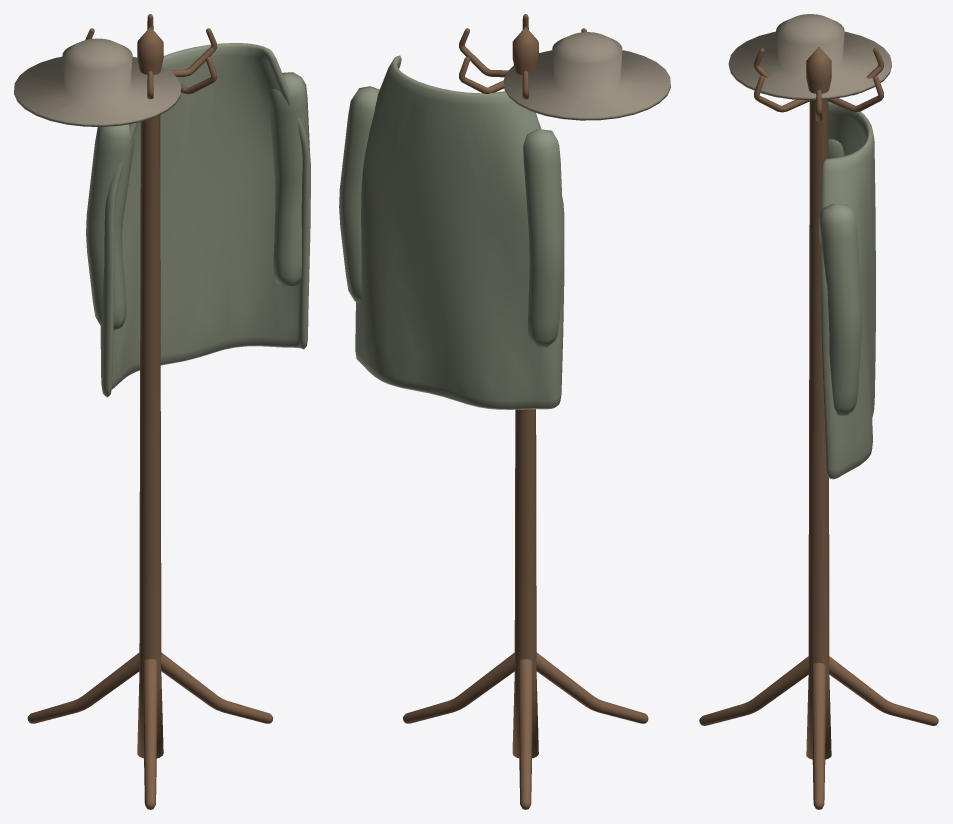
Rendered from coat_stand.glb.
3 views of the same model, side by side, from view 1: azimuth 30°, elevation 25°; view 2: azimuth 150°, elevation 25°; view 3: azimuth 270°, elevation 25° (orthographic). The views are drawn at different scales.
Visible parts, largest first — view 1: coat_stand; view 2: coat_stand; view 3: coat_stand.
Boxes of the visible parts, left/top/right/bottom form: coat_stand: left=14, top=14, right=310, bottom=809; coat_stand: left=339, top=14, right=670, bottom=809; coat_stand: left=699, top=14, right=938, bottom=809.
Size of the model in its own units: 0.7891 by 1.82 by 0.5572.
